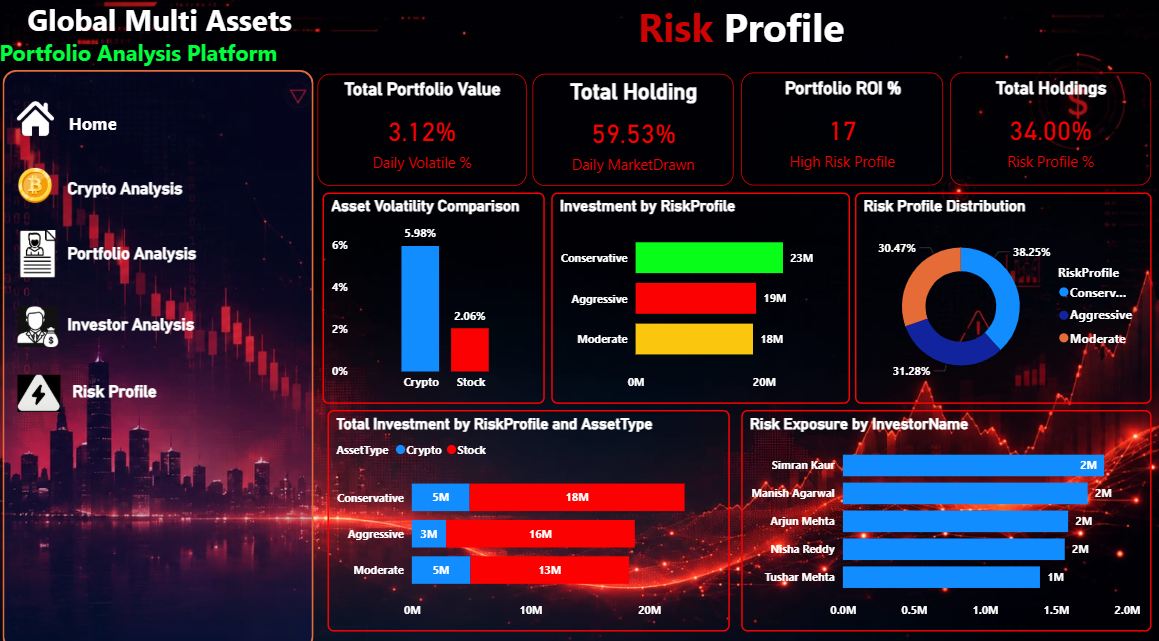

Layout of this report page (visuals, bound fields, positions):
{"tool":"powerbi","page":{"name":"Risk Profile","canvas":[1280,720],"ordinal":4},"visuals":[{"type":"textbox","box":[0,0,370.5,115.3],"z":0},{"type":"card","title":"    Total Holding","fields":{"Values":["Measure.Daily MarketDrawn"]},"box":[591.2,86.9,220.8,123.1],"z":0,"group":"g6"},{"type":"image","box":[25.3,187,38.6,44.6],"z":0,"group":"g1"},{"type":"clusteredColumnChart","title":"Asset Volatility Comparison","fields":{"Category":["Dim_Assets.AssetType"],"Y":["Measure.Daily Volatile %"]},"box":[359.5,216.8,244.3,231.9],"z":0,"group":"g7"},{"type":"actionButton","title":"Portfolio Analysis","box":[80.8,273.9,159.3,24.1],"z":0,"group":"g2"},{"type":"actionButton","title":"Investor Analysis","box":[80.8,351.1,167.7,29],"z":0,"group":"g4"},{"type":"actionButton","title":"Risk Profile","box":[85.6,423.5,100.1,24.1],"z":0,"group":"g3"},{"type":"shape","box":[8.4,83,341.4,637],"z":1000},{"type":"card","title":"Total Portfolio Value","fields":{"Values":["Measure.Daily Volatile %"]},"box":[354.7,86.9,229.2,123.1],"z":1000,"group":"g6"},{"type":"actionButton","title":"Crypto Analysis","box":[80.8,201.5,127.9,29],"z":1000,"group":"g1"},{"type":"barChart","title":"Investment by RiskProfile","fields":{"Category":["Dim_Investors.RiskProfile"],"Y":["Measure.Total Investment"]},"box":[610.6,216.8,328,231.9],"z":1000,"group":"g7"},{"type":"image","box":[25.3,258.2,44.6,53.1],"z":1000,"group":"g2"},{"type":"image","box":[25.3,331.8,44.6,63.9],"z":1000,"group":"g4"},{"type":"image","box":[25.3,409,47.1,56.7],"z":1000,"group":"g3"},{"type":"card","title":"Total Holdings","fields":{"Values":["Measure.Risk Profile %"]},"box":[1049.6,85.7,220.8,124.3],"z":2000,"group":"g6"},{"type":"image","box":[19.2,115.3,50.8,41.2],"z":2000,"group":"g5"},{"type":"group","id":"g1","title":"Group 1","box":[25.3,187,183.4,44.6],"z":2000},{"type":"donutChart","title":"Risk Profile Distribution","fields":{"Category":["Dim_Investors.RiskProfile"],"Y":["Measure.Total Investment"]},"box":[944.1,216.8,325.2,231.9],"z":2000,"group":"g7"},{"type":"card","title":"Portfolio ROI %","fields":{"Values":["Measure.High Risk Profile"]},"box":[820.4,85.7,222,124.3],"z":3000,"group":"g6"},{"type":"actionButton","box":[49.5,121.9,115.8,37.4],"z":3000,"group":"g5"},{"type":"group","id":"g2","title":"Group 2","box":[25.3,258.2,214.7,53.1],"z":3000},{"type":"group","id":"g3","title":"Group 5","box":[25.3,409,160.5,56.7],"z":4000},{"type":"group","id":"g4","title":"Group 4","box":[25.3,331.8,223.2,63.9],"z":5000},{"type":"group","id":"g5","title":"Group 6","box":[19.2,115.3,146.1,44],"z":6000},{"type":"textbox","box":[358.3,0,921.7,74.8],"z":7000},{"type":"group","id":"g6","title":"Group 3","box":[354.7,85.7,915.7,124.3],"z":8000},{"type":"barChart","fields":{"Y":["Measure.Total Investment"],"Category":["Dim_Investors.RiskProfile"],"Series":["Dim_Assets.AssetType"]},"box":[365,455.6,441.9,242.9],"z":9000},{"type":"clusteredBarChart","fields":{"Category":["Dim_Investors.InvestorName"],"Y":["Measure.Risk Exposure"]},"box":[819.2,455.6,450.1,242.9],"z":10000},{"type":"group","id":"g7","title":"Group 7","box":[359.5,216.8,909.8,231.9],"z":11000}]}

Visuals, with their boxes in screenshot pixels (x1, y1, x2, y2), scaled from the page's 1280x720 canvas onto the 1159x641 screenshot:
textbox: left=0, top=0, right=335, bottom=103
"    Total Holding" card: left=535, top=77, right=735, bottom=187
image: left=23, top=166, right=58, bottom=206
"Asset Volatility Comparison" clusteredColumnChart: left=326, top=193, right=547, bottom=399
"Portfolio Analysis" actionButton: left=73, top=244, right=217, bottom=265
"Investor Analysis" actionButton: left=73, top=313, right=225, bottom=338
"Risk Profile" actionButton: left=78, top=377, right=168, bottom=398
shape: left=8, top=74, right=317, bottom=640
"Total Portfolio Value" card: left=321, top=77, right=529, bottom=187
"Crypto Analysis" actionButton: left=73, top=179, right=189, bottom=205
"Investment by RiskProfile" barChart: left=553, top=193, right=850, bottom=399
image: left=23, top=230, right=63, bottom=277
image: left=23, top=295, right=63, bottom=352
image: left=23, top=364, right=66, bottom=415
"Total Holdings" card: left=950, top=76, right=1150, bottom=187
image: left=17, top=103, right=63, bottom=139
"Group 1" group: left=23, top=166, right=189, bottom=206
"Risk Profile Distribution" donutChart: left=855, top=193, right=1149, bottom=399
"Portfolio ROI %" card: left=743, top=76, right=944, bottom=187
actionButton: left=45, top=109, right=150, bottom=142
"Group 2" group: left=23, top=230, right=217, bottom=277
"Group 5" group: left=23, top=364, right=168, bottom=415
"Group 4" group: left=23, top=295, right=225, bottom=352
"Group 6" group: left=17, top=103, right=150, bottom=142
textbox: left=324, top=0, right=1158, bottom=67
"Group 3" group: left=321, top=76, right=1150, bottom=187
barChart - Measure.Total Investment x Dim_Investors.RiskProfile: left=330, top=406, right=731, bottom=622
clusteredBarChart - Dim_Investors.InvestorName x Measure.Risk Exposure: left=742, top=406, right=1149, bottom=622
"Group 7" group: left=326, top=193, right=1149, bottom=399
